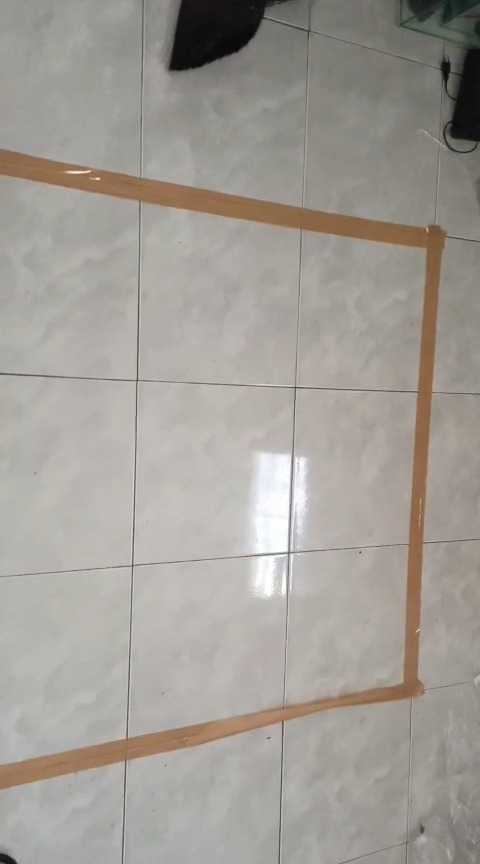floor marking: (0, 151, 445, 789)
